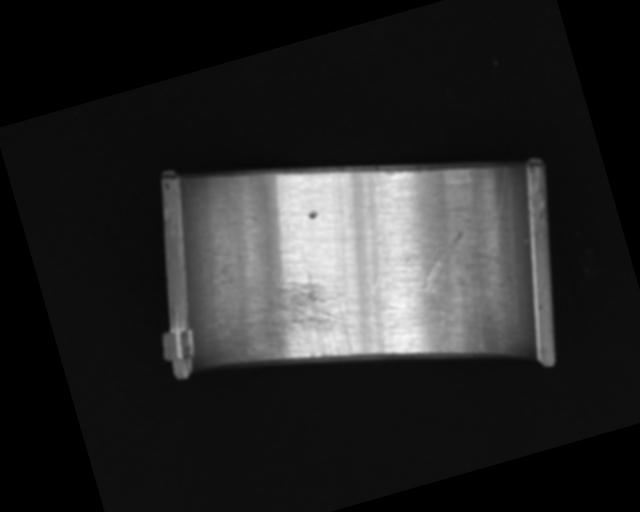bruise: (307, 209, 320, 221)
nick: (336, 168, 411, 297), (463, 164, 530, 263), (414, 230, 474, 287), (422, 282, 450, 342)
scratch: (223, 262, 365, 383)
